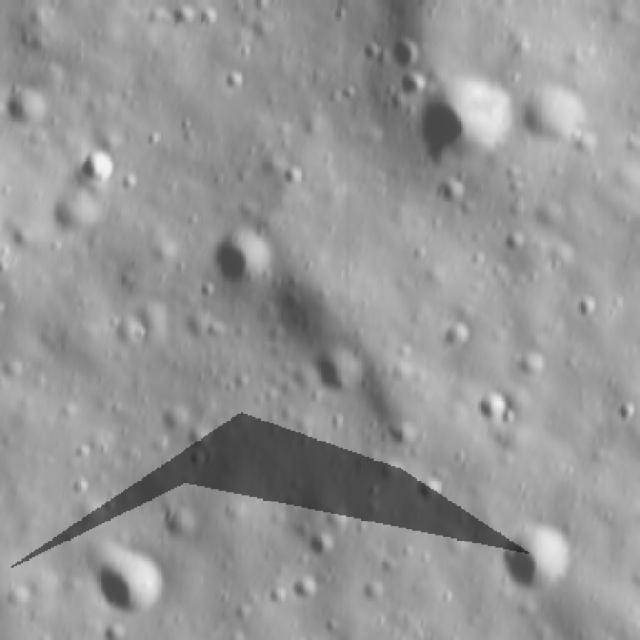crater: (416, 82, 513, 168), (88, 543, 184, 628), (492, 520, 572, 594), (205, 227, 284, 296), (526, 78, 592, 152), (55, 176, 118, 250), (451, 378, 515, 430), (307, 343, 362, 400), (387, 33, 425, 72), (299, 519, 338, 556), (83, 148, 119, 185), (155, 503, 196, 535), (393, 71, 432, 100)
